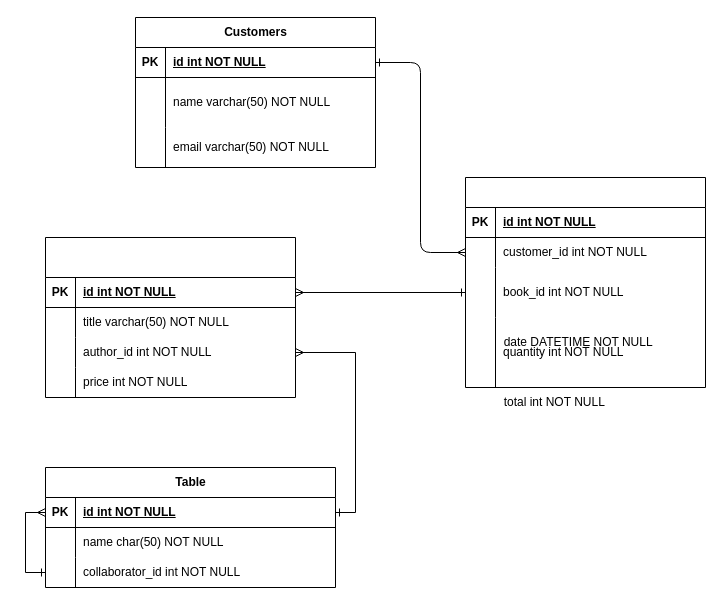
Some shapes in this 723 by 605 pixel diagram are drawn without their labels. Here are the shapes that lost their labels. From the top down, the box of each, then its label:
(464, 176, 706, 388): Transactions
(44, 236, 296, 398): Books
